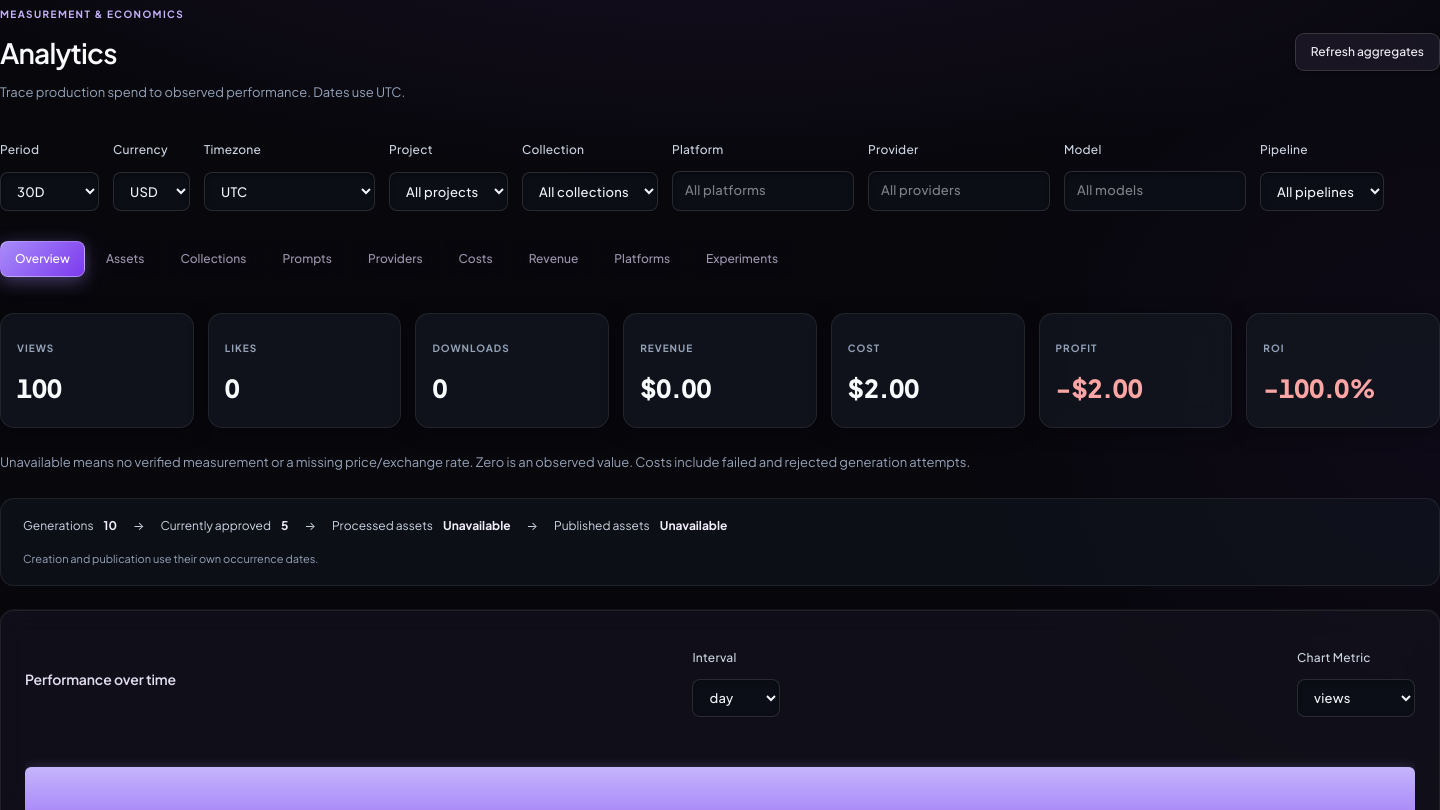
Test: switches chart metrics without mixing scales
Select "revenue" in the dropdown labelled "Chart metric" at (1356, 698), box x1=1297 y1=679 x2=1415 y2=717
(page scrolled)
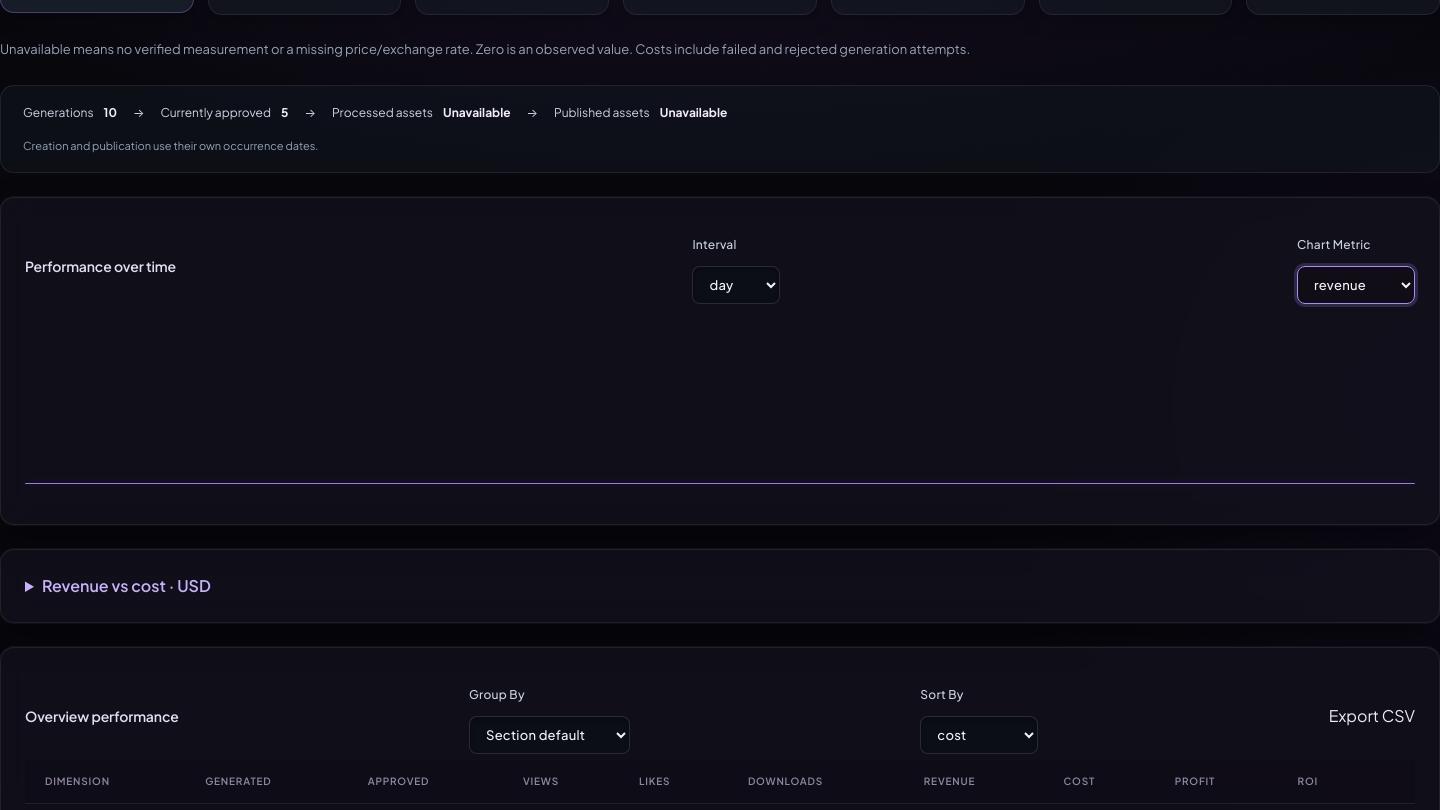
Check: the picture named "revenue over time" is shown, box x1=25 y1=310 x2=1415 y2=500
